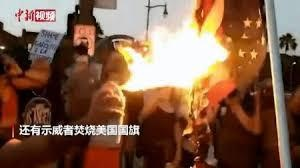fire: (117, 1, 229, 93)
